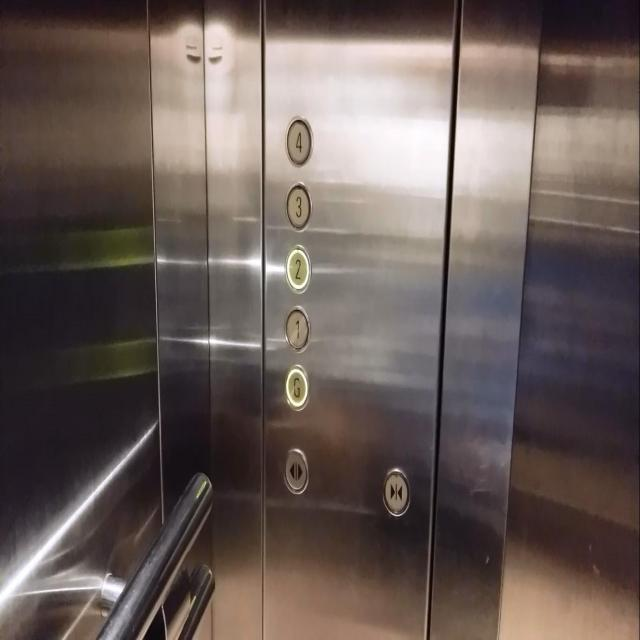1: (283, 302, 312, 356)
2: (283, 242, 312, 295)
3: (284, 180, 313, 233)
4: (283, 114, 315, 168)
G: (282, 359, 311, 413)
close: (381, 463, 411, 517)
open: (282, 446, 312, 499)
